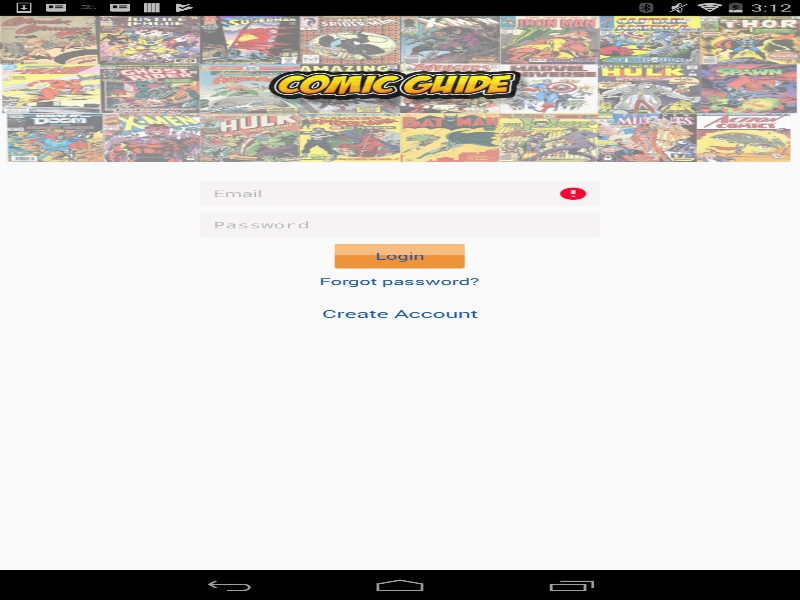Button: (334, 243, 465, 268)
Input: (200, 181, 600, 206), (200, 212, 600, 237)
